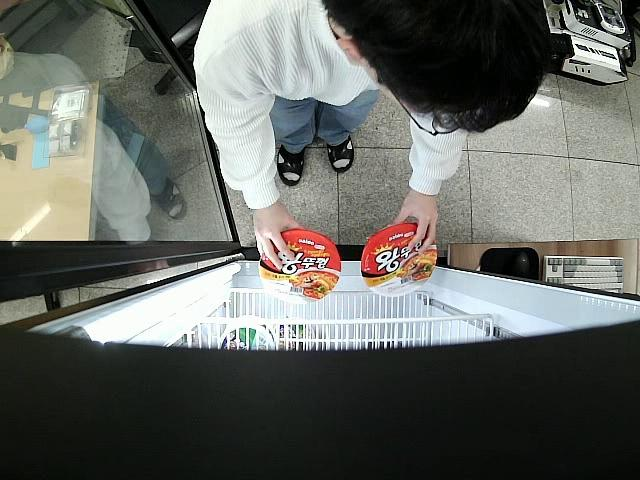00_hand: (252, 201, 303, 270), (385, 189, 438, 253)
10_wangTtukkeong: (260, 229, 341, 304), (361, 222, 437, 297)
